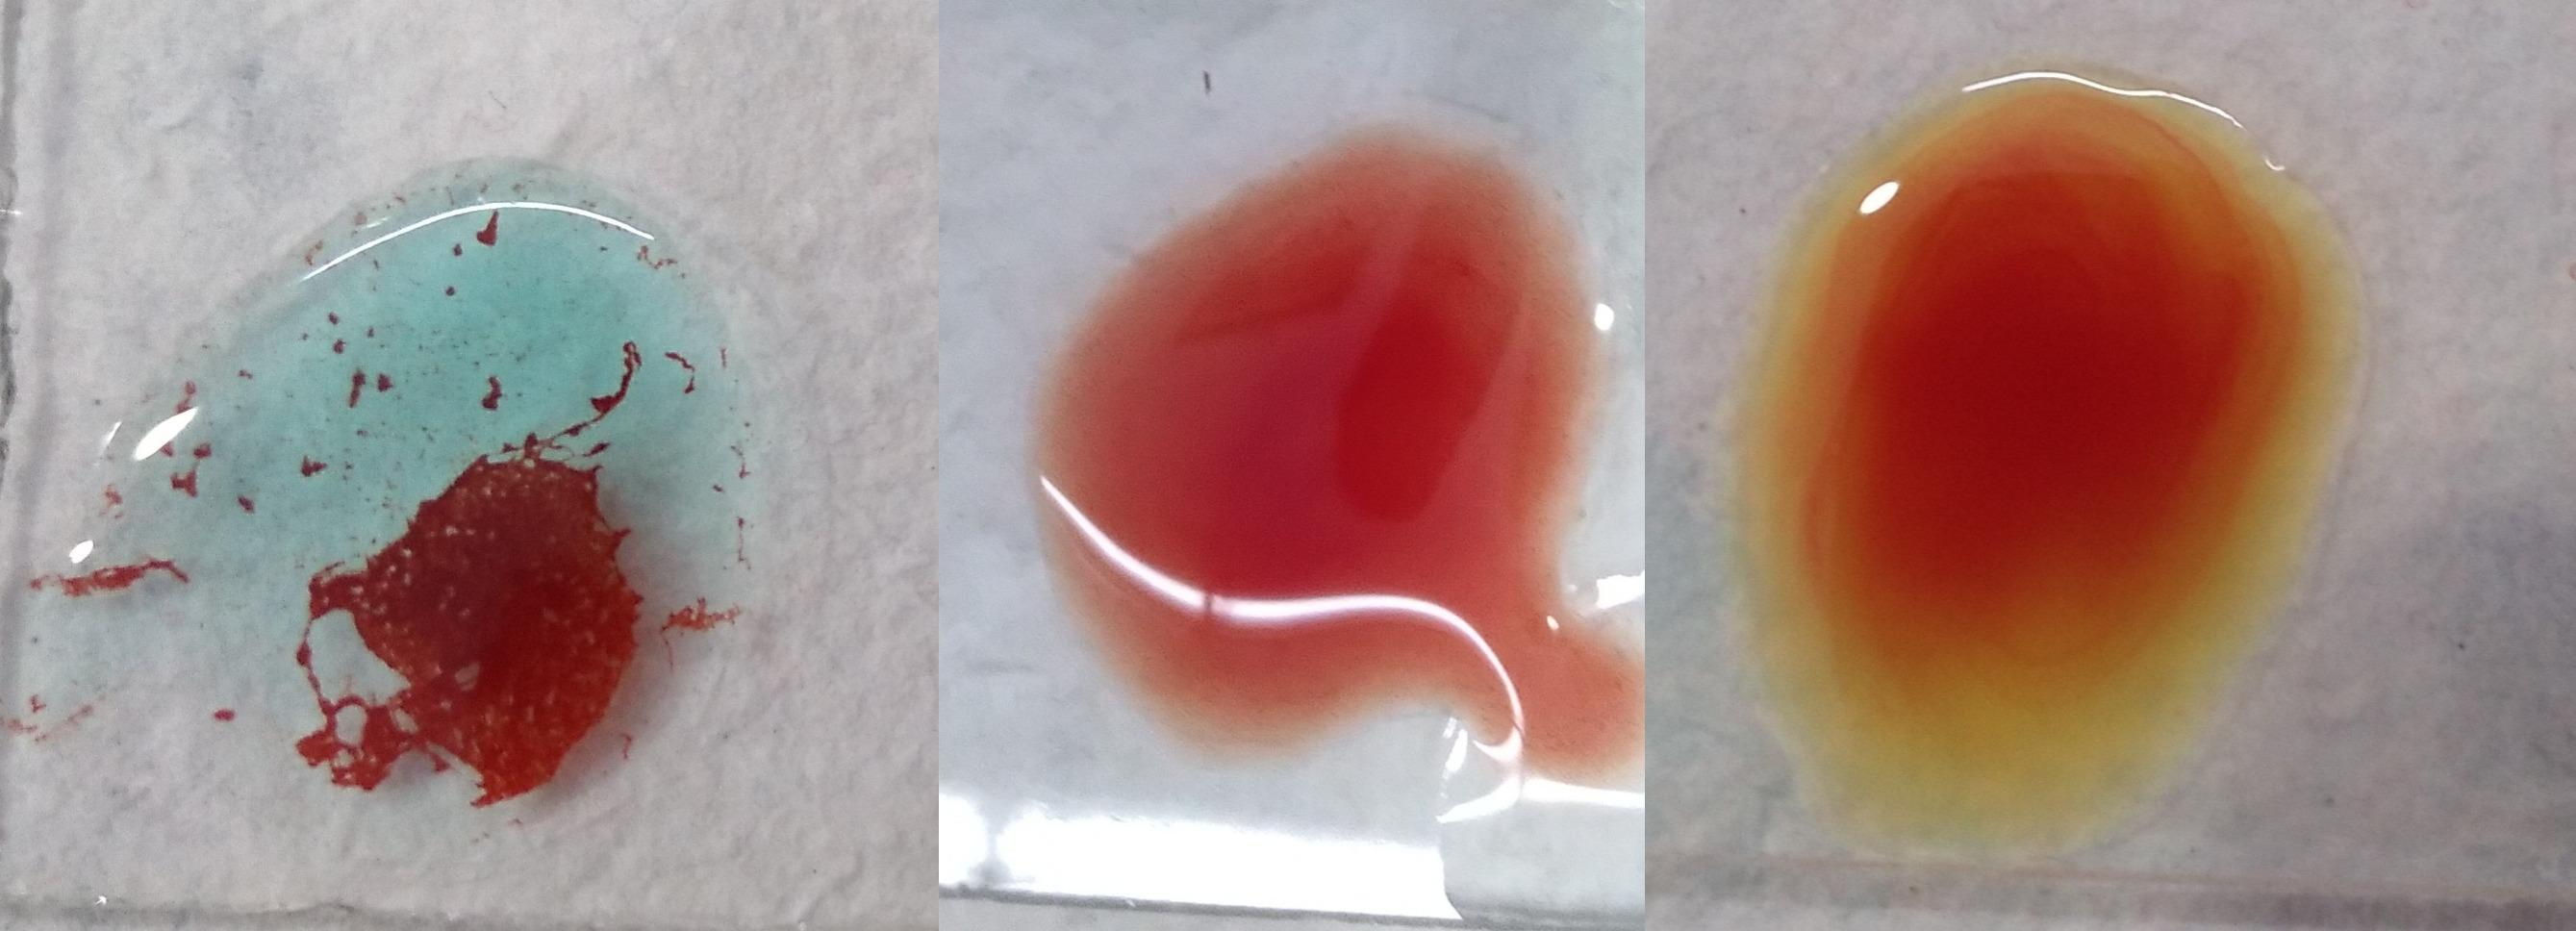A: (92, 162, 790, 842)
